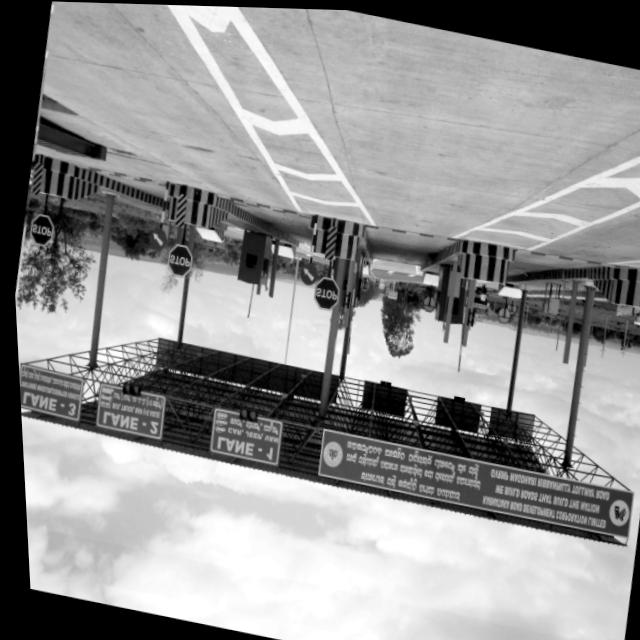cleat: (25, 2, 640, 462)
